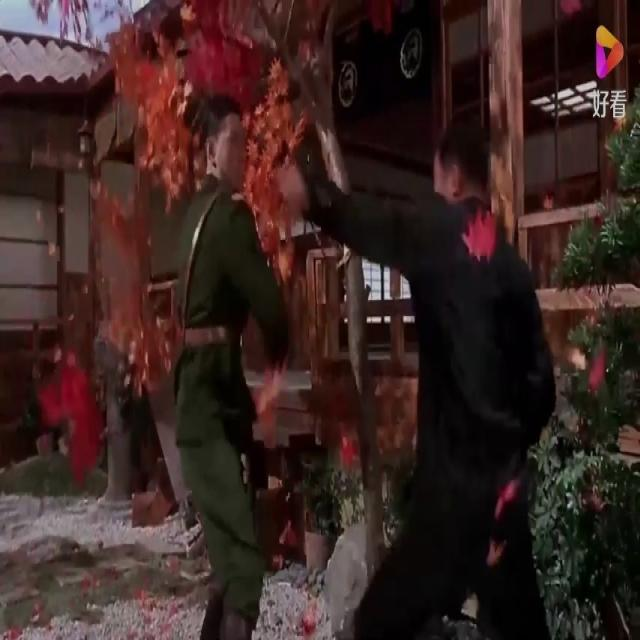fight: (132, 73, 570, 639)
